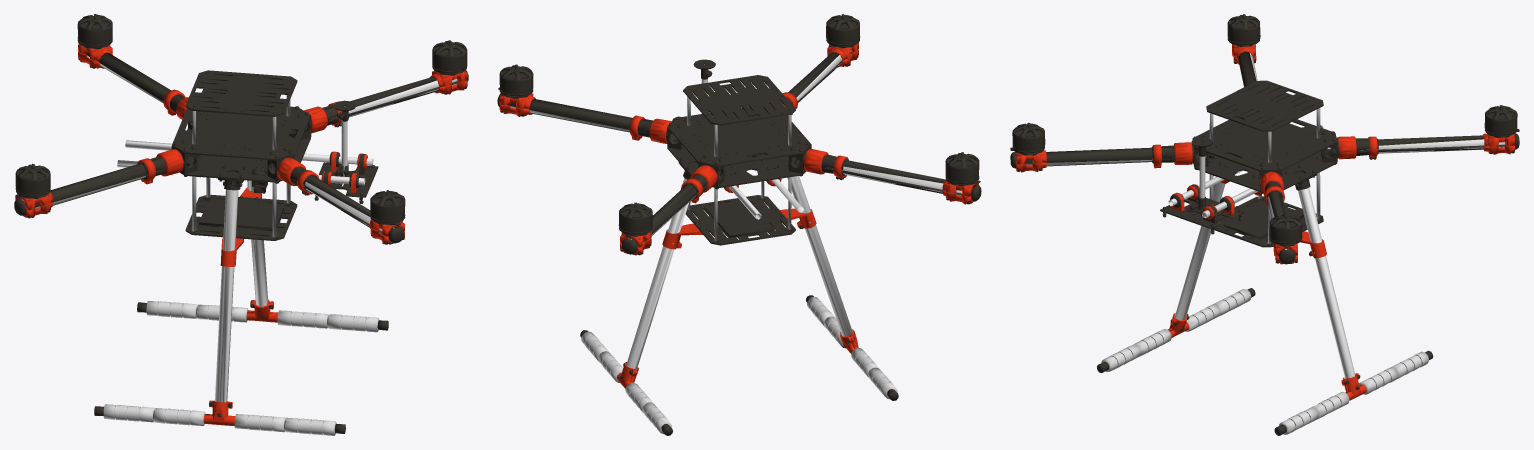
File: Scale.fbx_Collection_001.fbx
3 views of the same model, side by side, from view 1: azimuth 30°, elevation 25°; view 2: azimuth 150°, elevation 25°; view 3: azimuth 270°, elevation 25° (orthographic). The views are drawn at different scales.
Visible parts, largest first — view 1: Drohnen Zusammenbau.001; view 2: Drohnen Zusammenbau.001; view 3: Drohnen Zusammenbau.001.
Boxes of the visible parts, bbox=[...] form: Drohnen Zusammenbau.001: bbox=[14, 14, 468, 435]; Drohnen Zusammenbau.001: bbox=[497, 14, 981, 435]; Drohnen Zusammenbau.001: bbox=[1010, 14, 1519, 435].
Bounding box in the file's own units: 0.6982 × 0.6982 × 0.3978.
